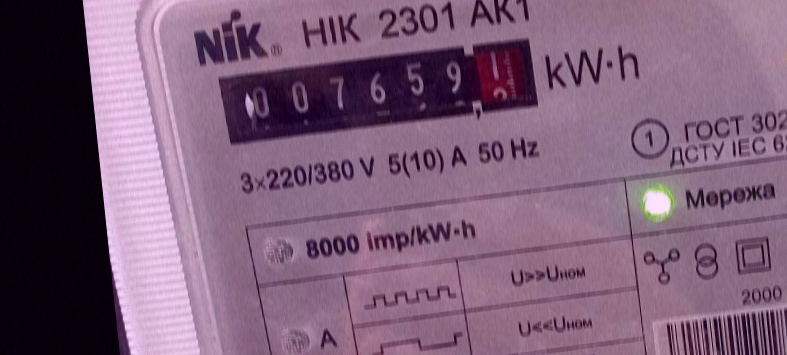0: (288, 76, 315, 115), (249, 80, 274, 121)
1: (486, 45, 505, 83)
5: (405, 58, 428, 97)
6: (365, 67, 391, 105)
7: (326, 71, 350, 111)
9: (443, 56, 467, 95)
screen: (209, 30, 550, 153)
